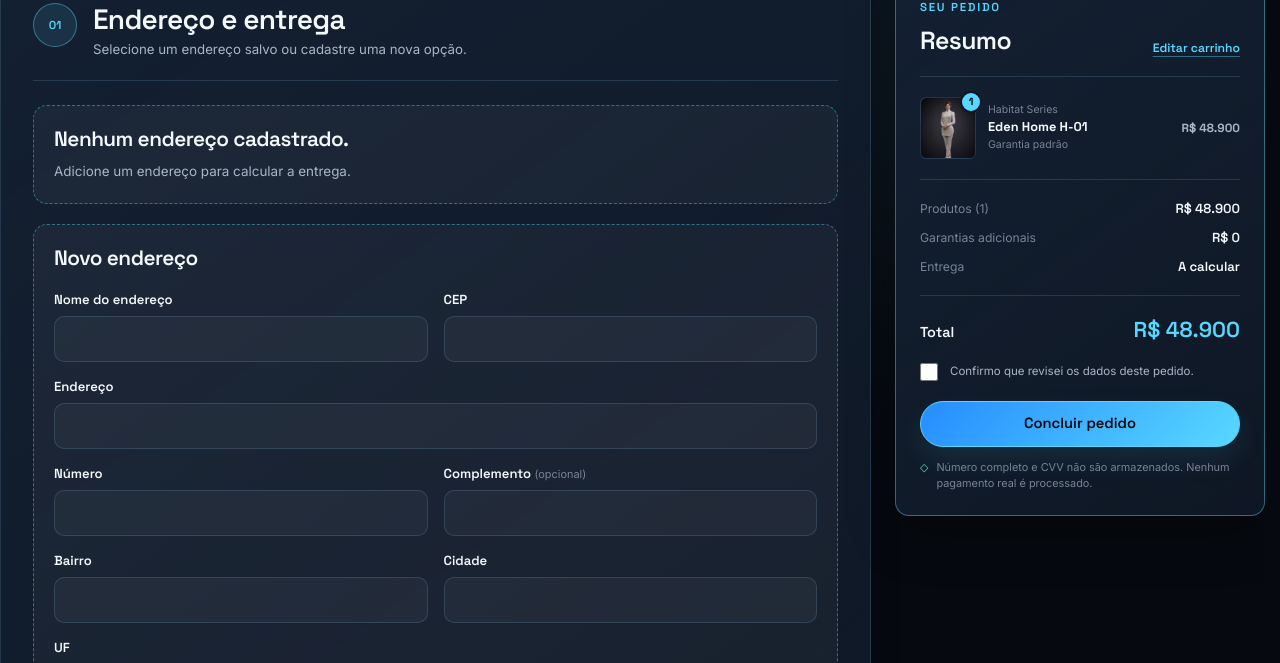
Test: Checkout › consulta o ViaCEP simulado, salva um novo endereço e libera o frete
(page scrolled)
In the field labelled "Nome do endereço": point(241, 339) [54,316,428,362], type "Trabalho"
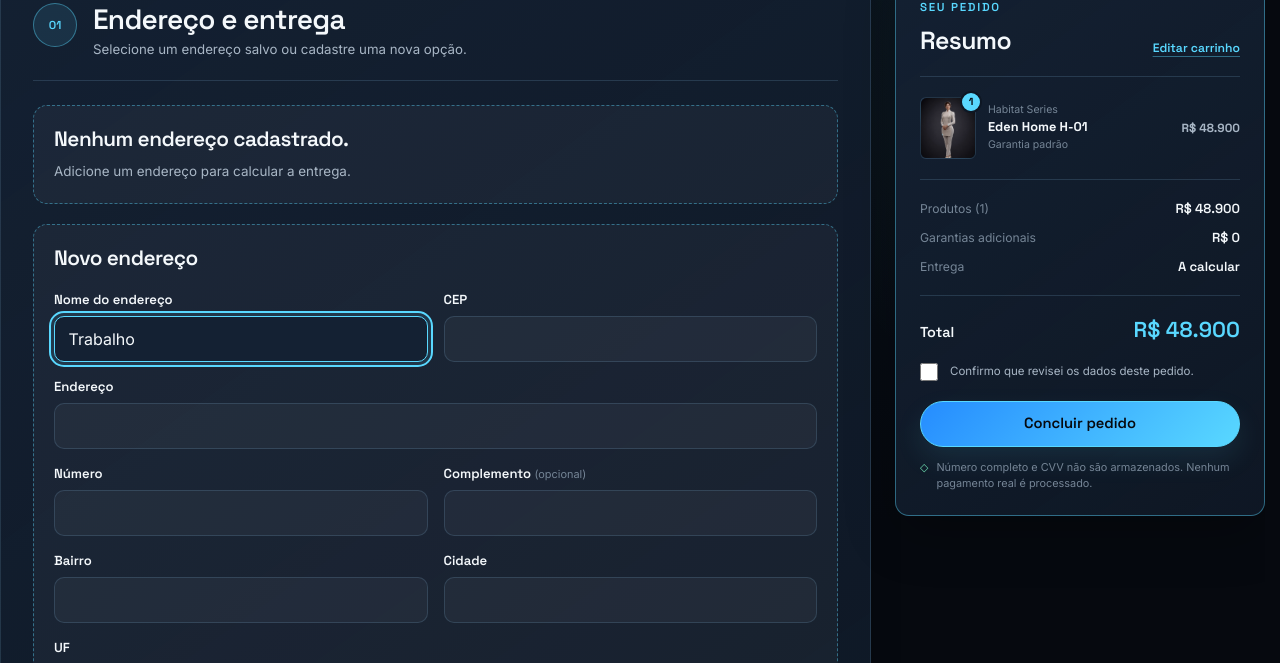
In the field labelled "CEP": point(630, 339) [444,316,817,362], type "01001000"
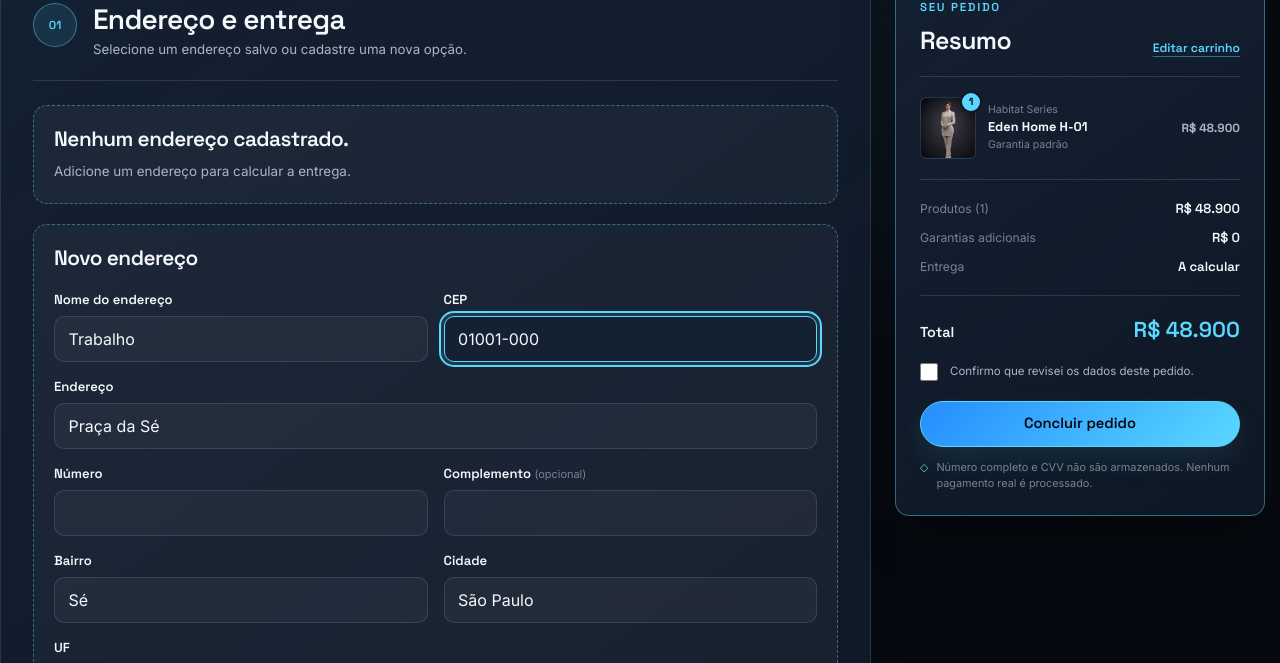
Expected: the field showing "Praça da Sé" is shown, [54,403,817,449]
In the field labelled "Número": point(241, 513) [54,490,428,536], type "200"
(page scrolled)
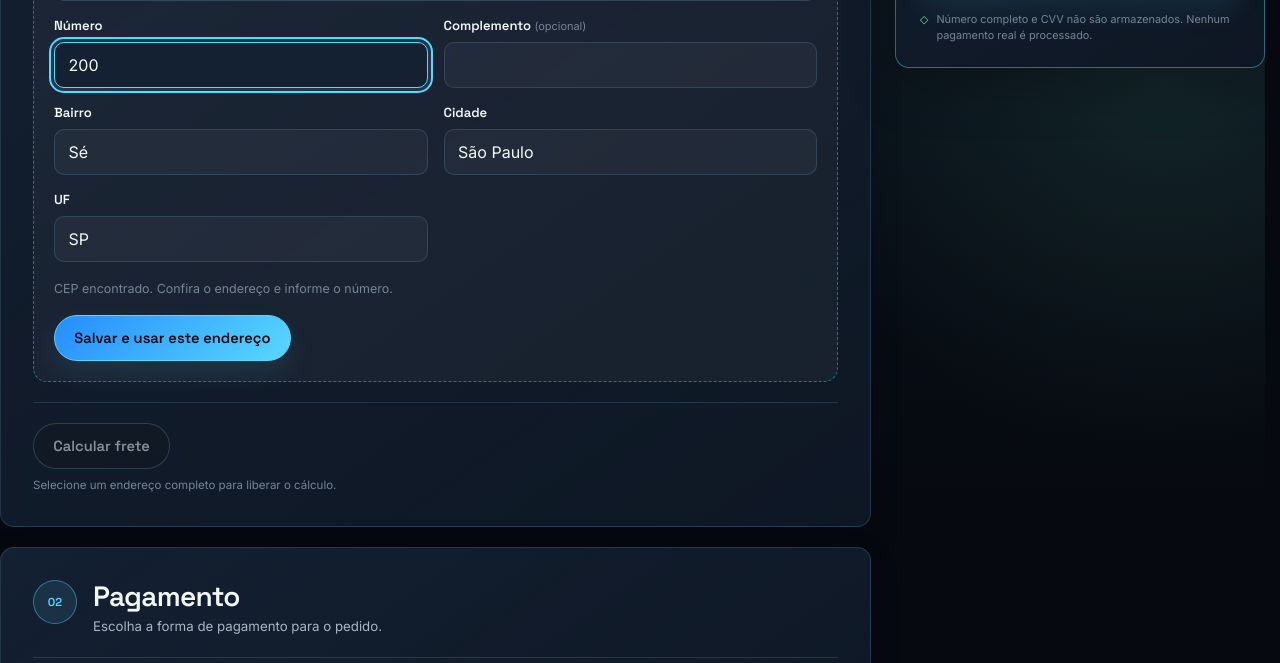
Click the button "Salvar e usar este endereço": point(172, 338) [54,315,291,361]
(page scrolled)
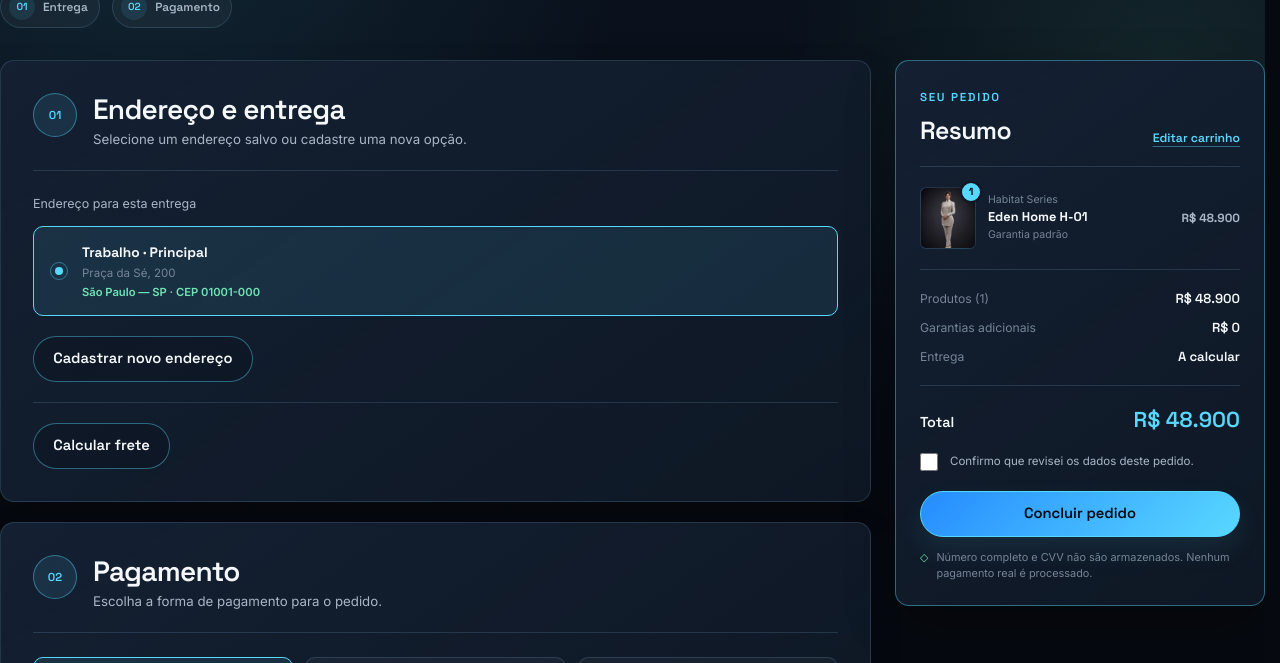
Expected: the radio button labelled "Trabalho" is checked, [33,226,838,316]
Expected: the button "Calcular frete" is enabled
Click the button "Calcular frete": point(102, 446) [33,423,170,469]
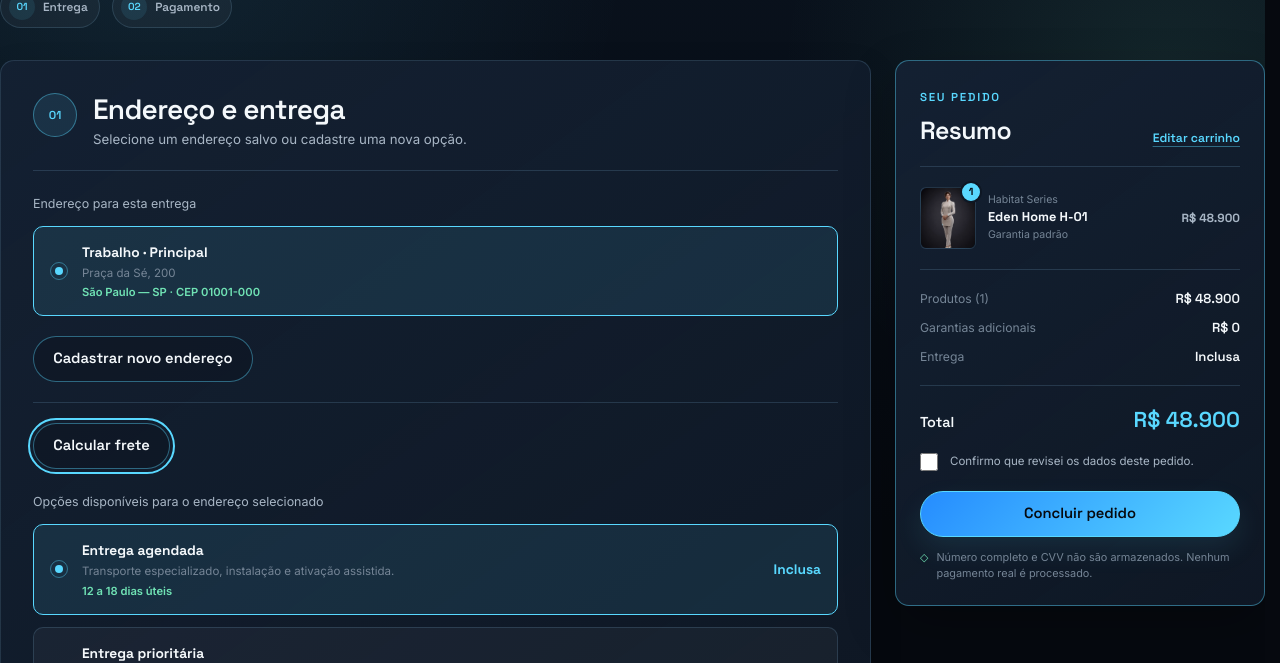
Expected: the radio button labelled "Entrega agendada" is checked, [33,524,838,615]
